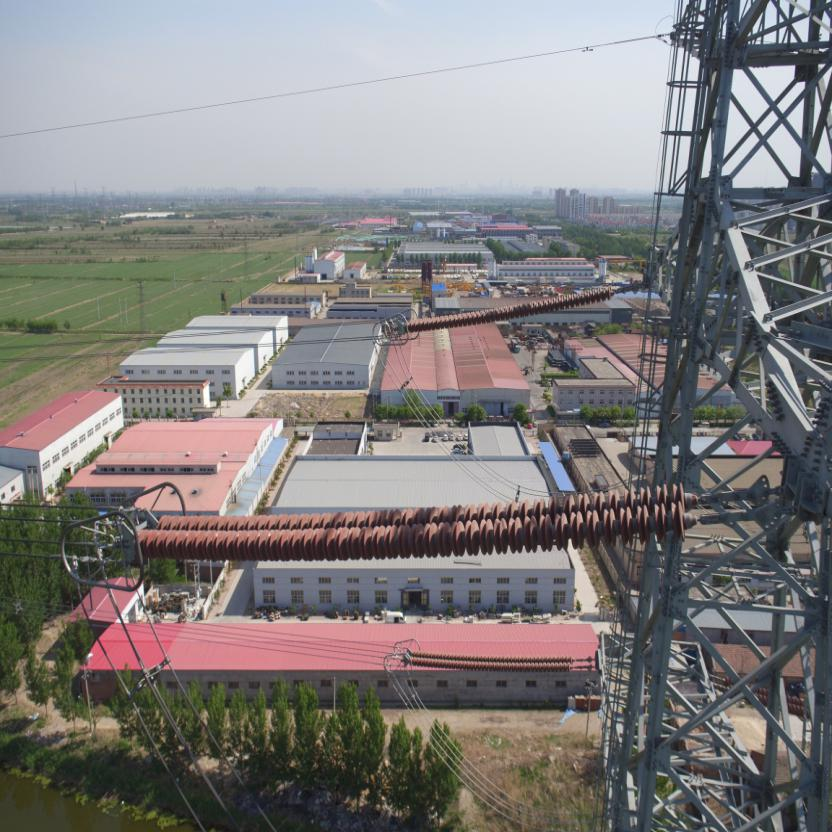insulator: (124, 479, 748, 566), (399, 280, 626, 332)
